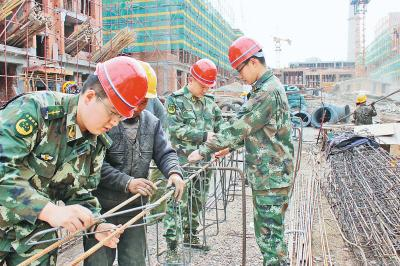helmet: (95, 57, 150, 120), (228, 37, 263, 73), (138, 58, 162, 100), (191, 58, 220, 88), (357, 92, 368, 105)
